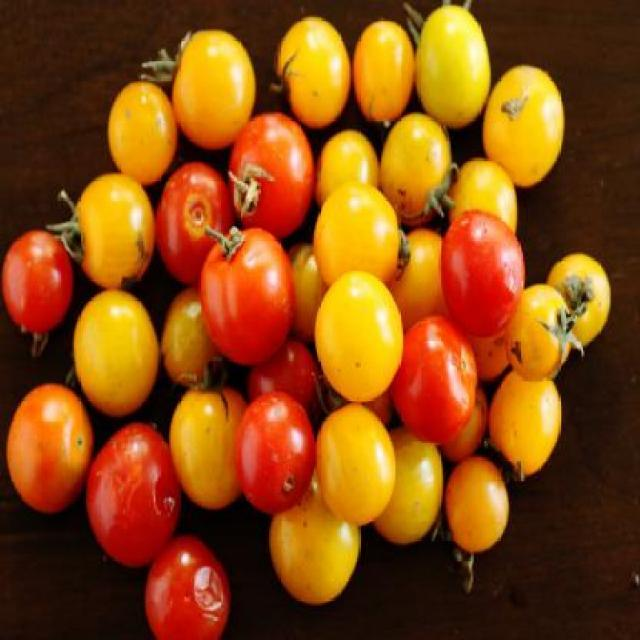Tomato: (5, 3, 609, 640), (198, 222, 294, 370)
